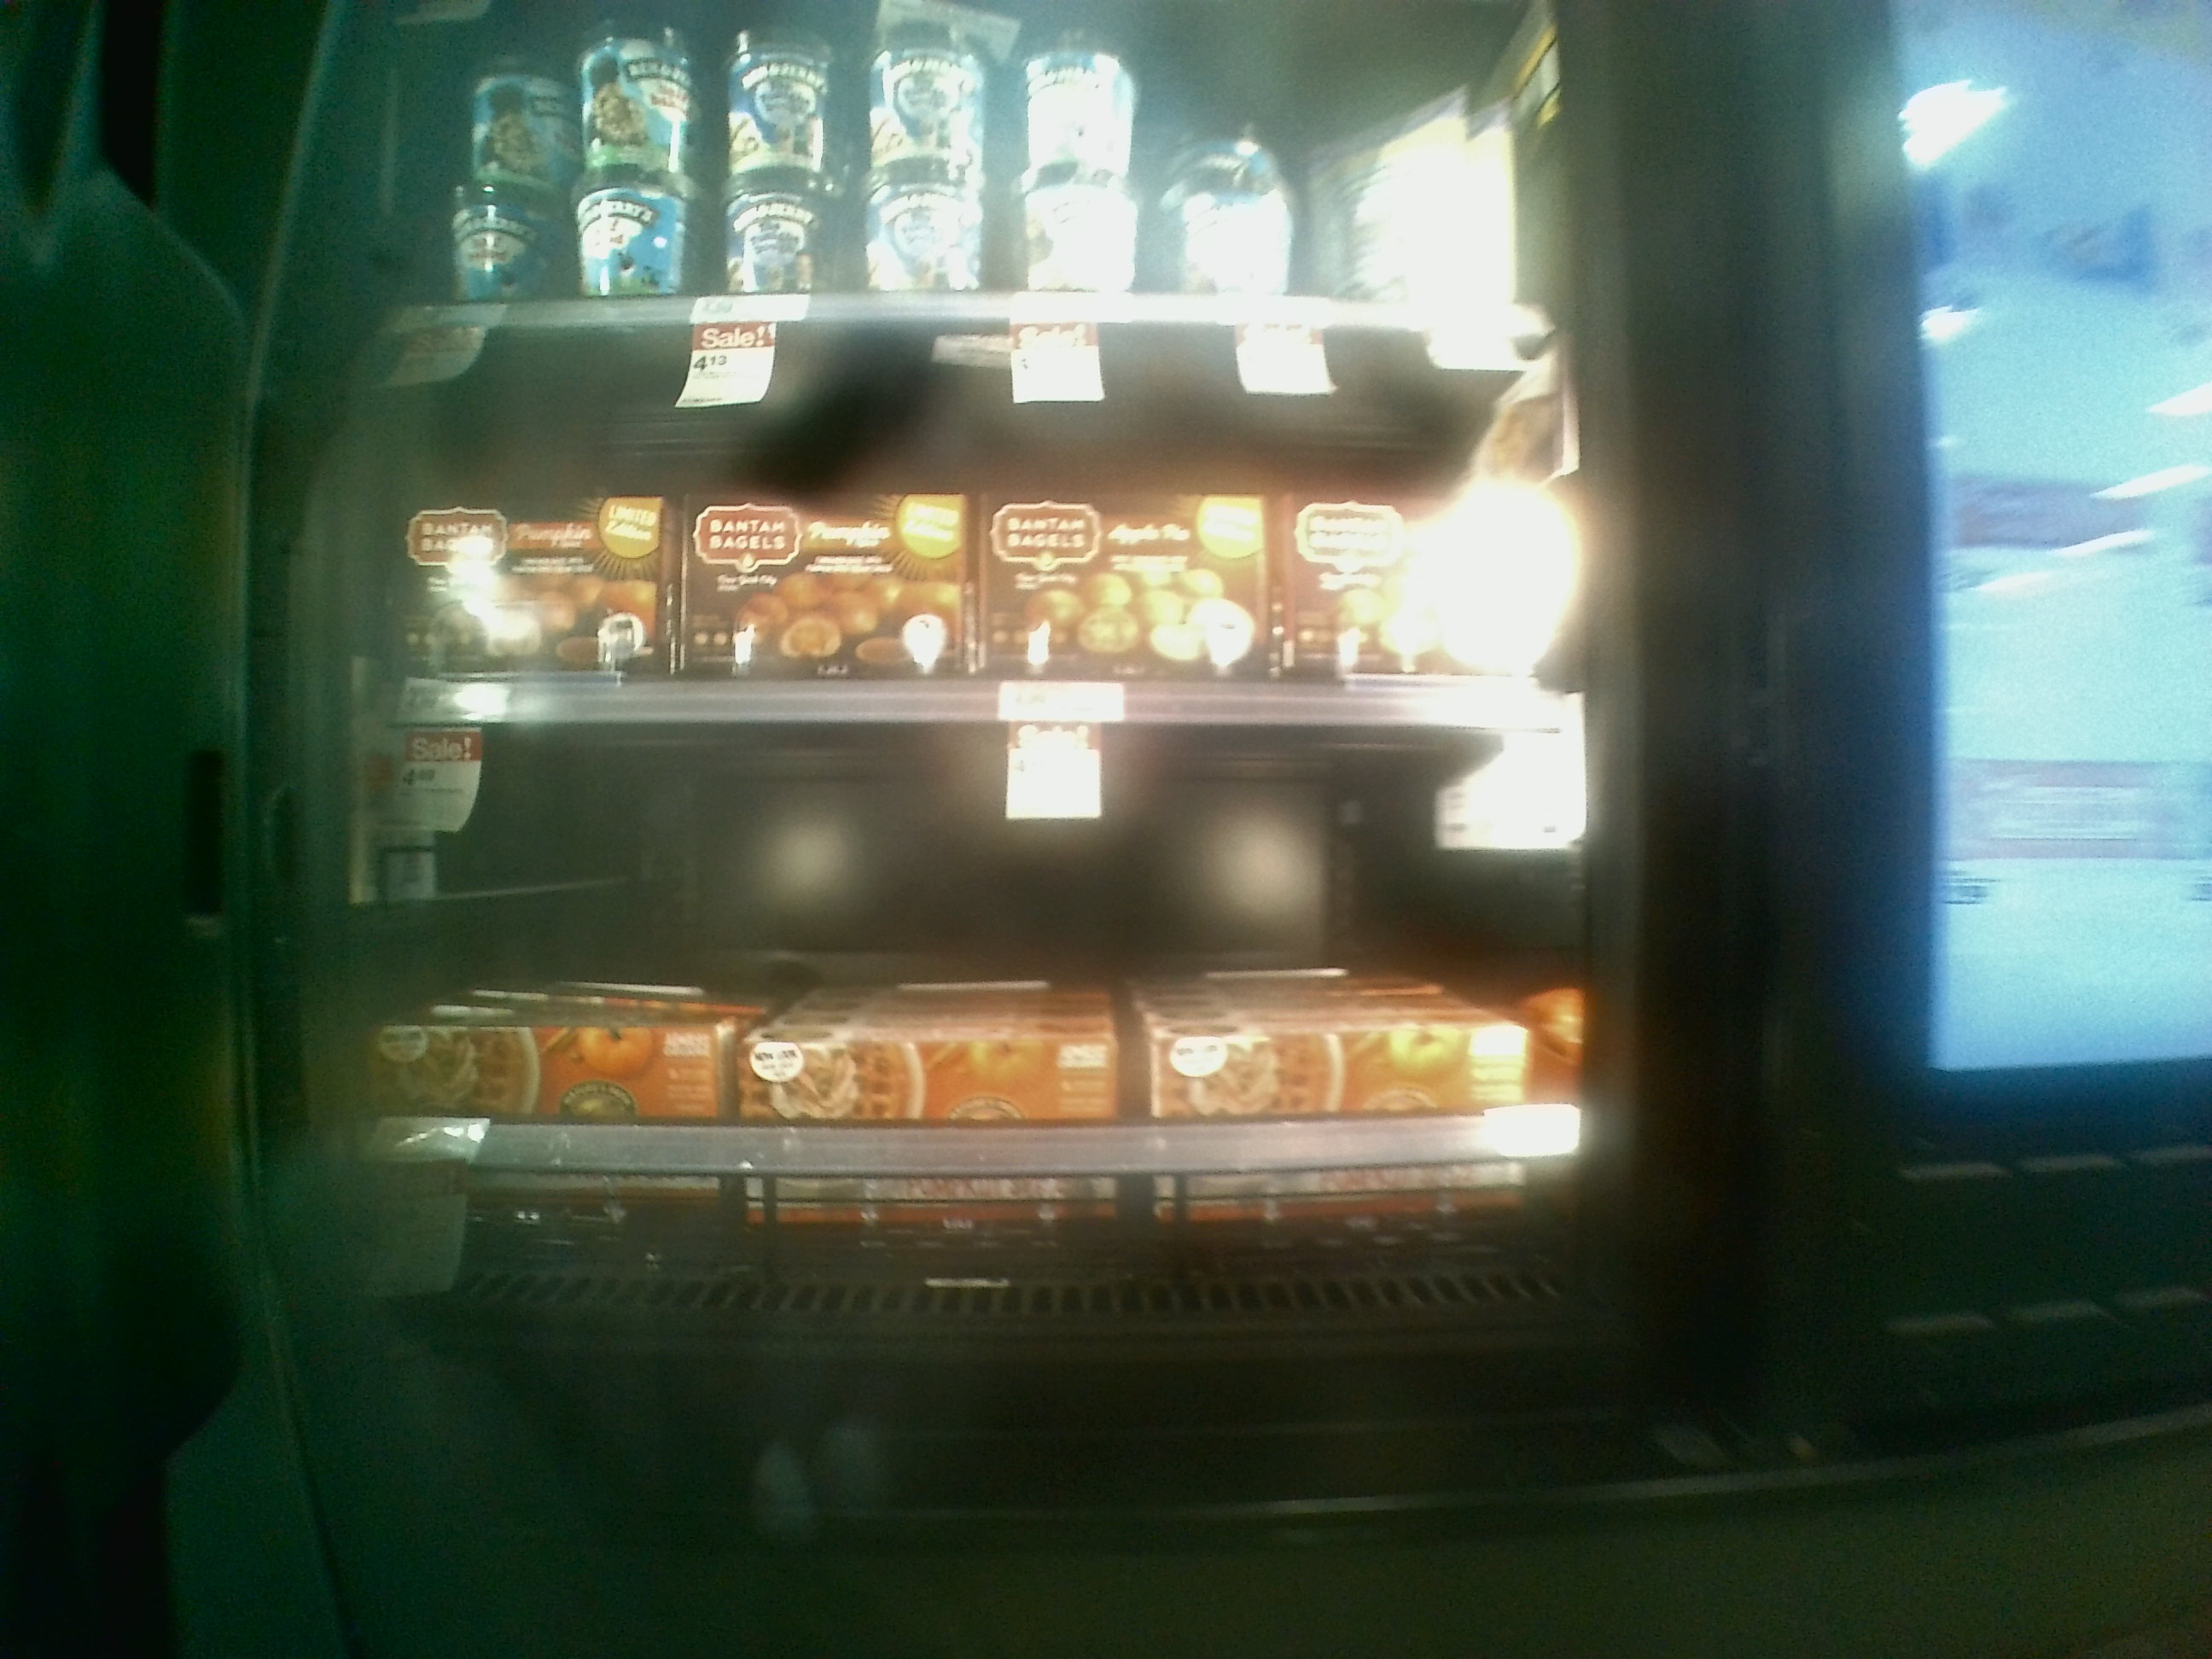shelf: (340, 685, 1641, 1347), (364, 308, 1594, 737)
